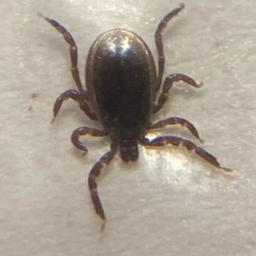Ixodes scapularis: (39, 4, 232, 221)
